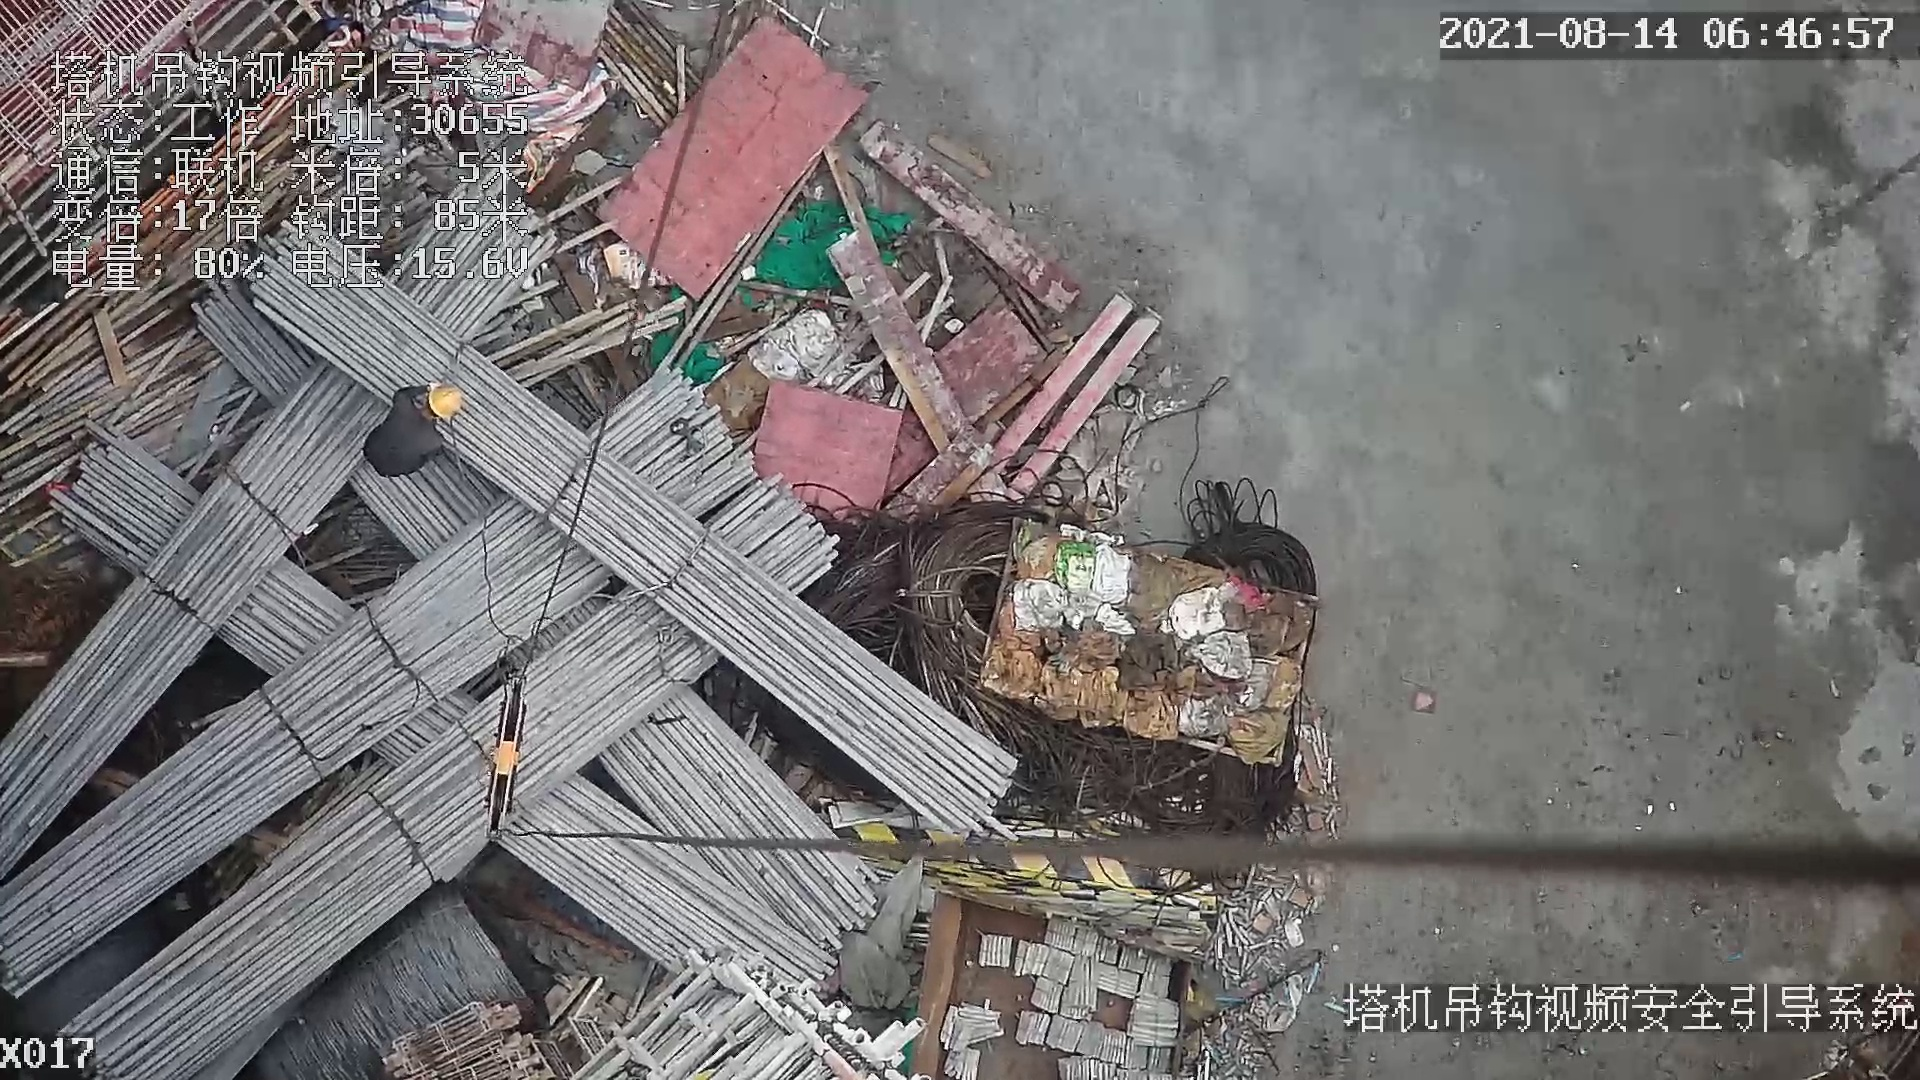board: (592, 13, 858, 298)
helmet: (433, 383, 474, 426)
hook: (477, 665, 536, 858)
person: (355, 368, 462, 480)
